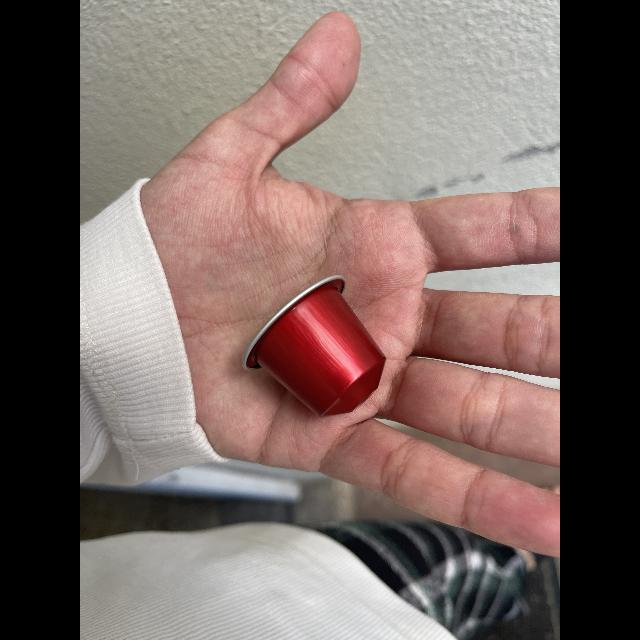intact_capsule: (235, 267, 392, 427)
